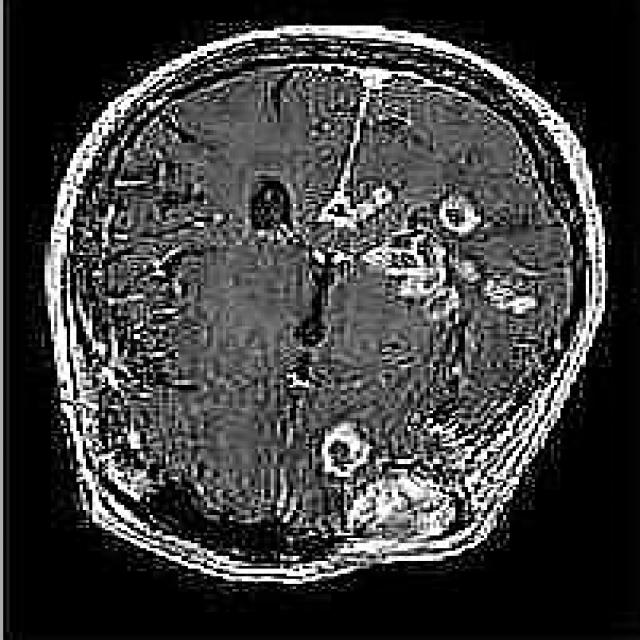Tumor-Cell: (280, 387, 473, 567)
